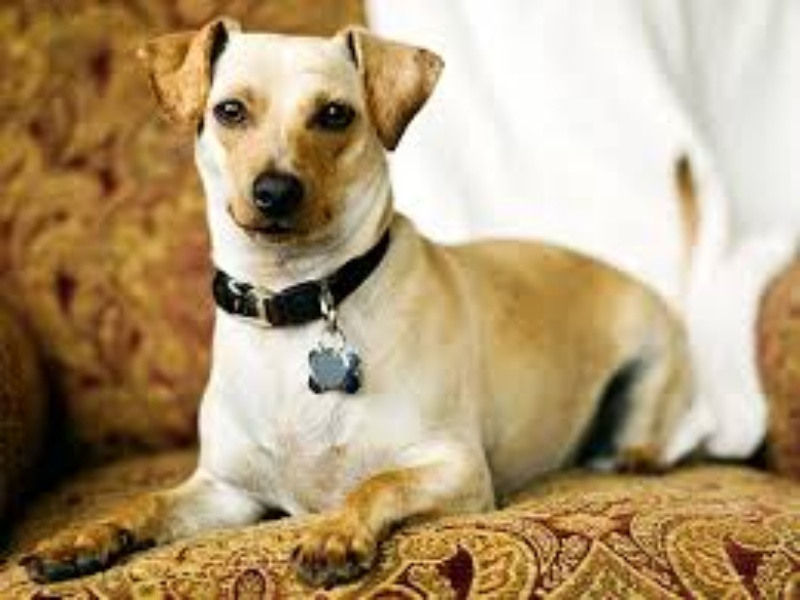dog: (19, 17, 695, 588)
